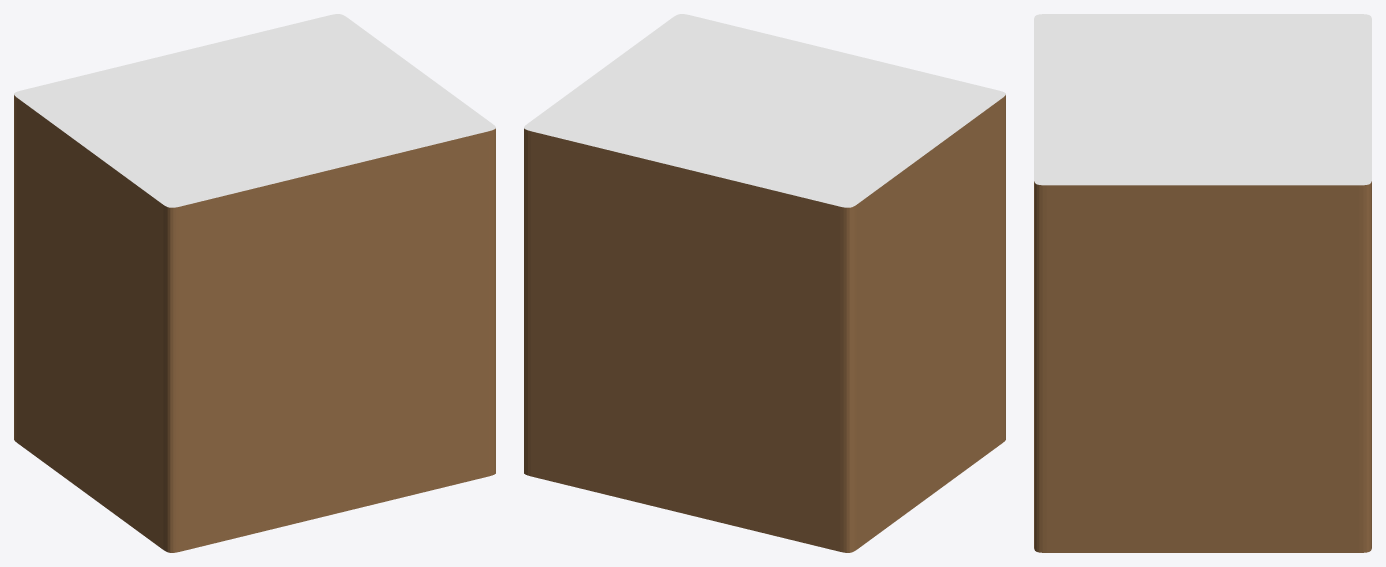
Rendered from plane chunk.fbx.
The picture shows the model from 3 angles, left to right: view 1: azimuth 30°, elevation 25°; view 2: azimuth 150°, elevation 25°; view 3: azimuth 270°, elevation 25°; orthographic projection. The views are drawn at different scales.
Parts seen in each view (by area): view 1: Soil, Surface; view 2: Soil, Surface; view 3: Soil, Surface.
Boxes of the visible parts, x1,y1,x2,y2 form: Soil: [14, 95, 495, 552]; Surface: [14, 14, 495, 207]; Soil: [524, 95, 1005, 552]; Surface: [524, 14, 1005, 207]; Soil: [1034, 181, 1371, 552]; Surface: [1034, 14, 1371, 185].
Bounding box in the file's own units: 192 × 192 × 160.
